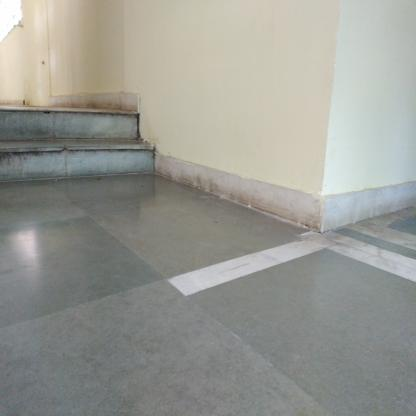stairs: (1, 106, 143, 183)
